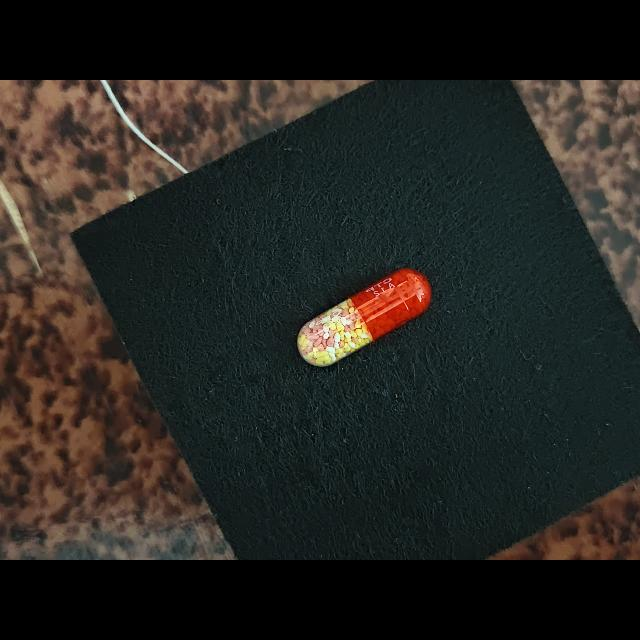Intact Capsule: (297, 268, 431, 367)
